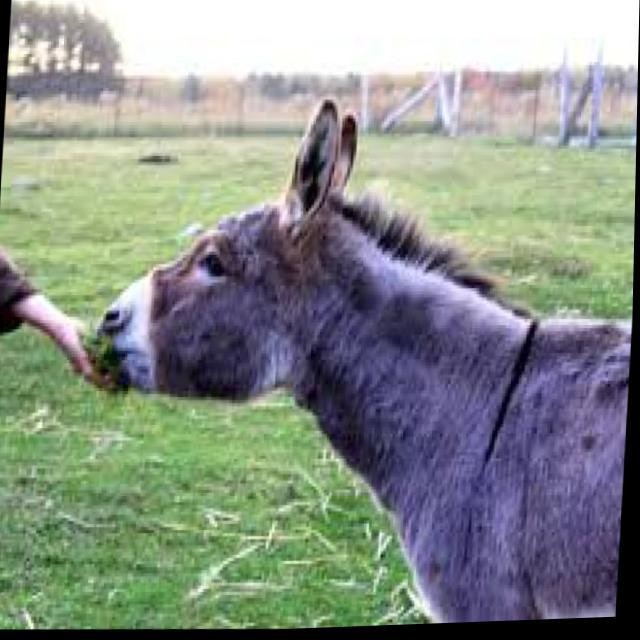Donkey: (69, 90, 638, 638)
